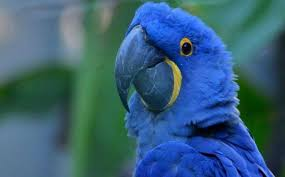guacamaya: (111, 1, 265, 177)
